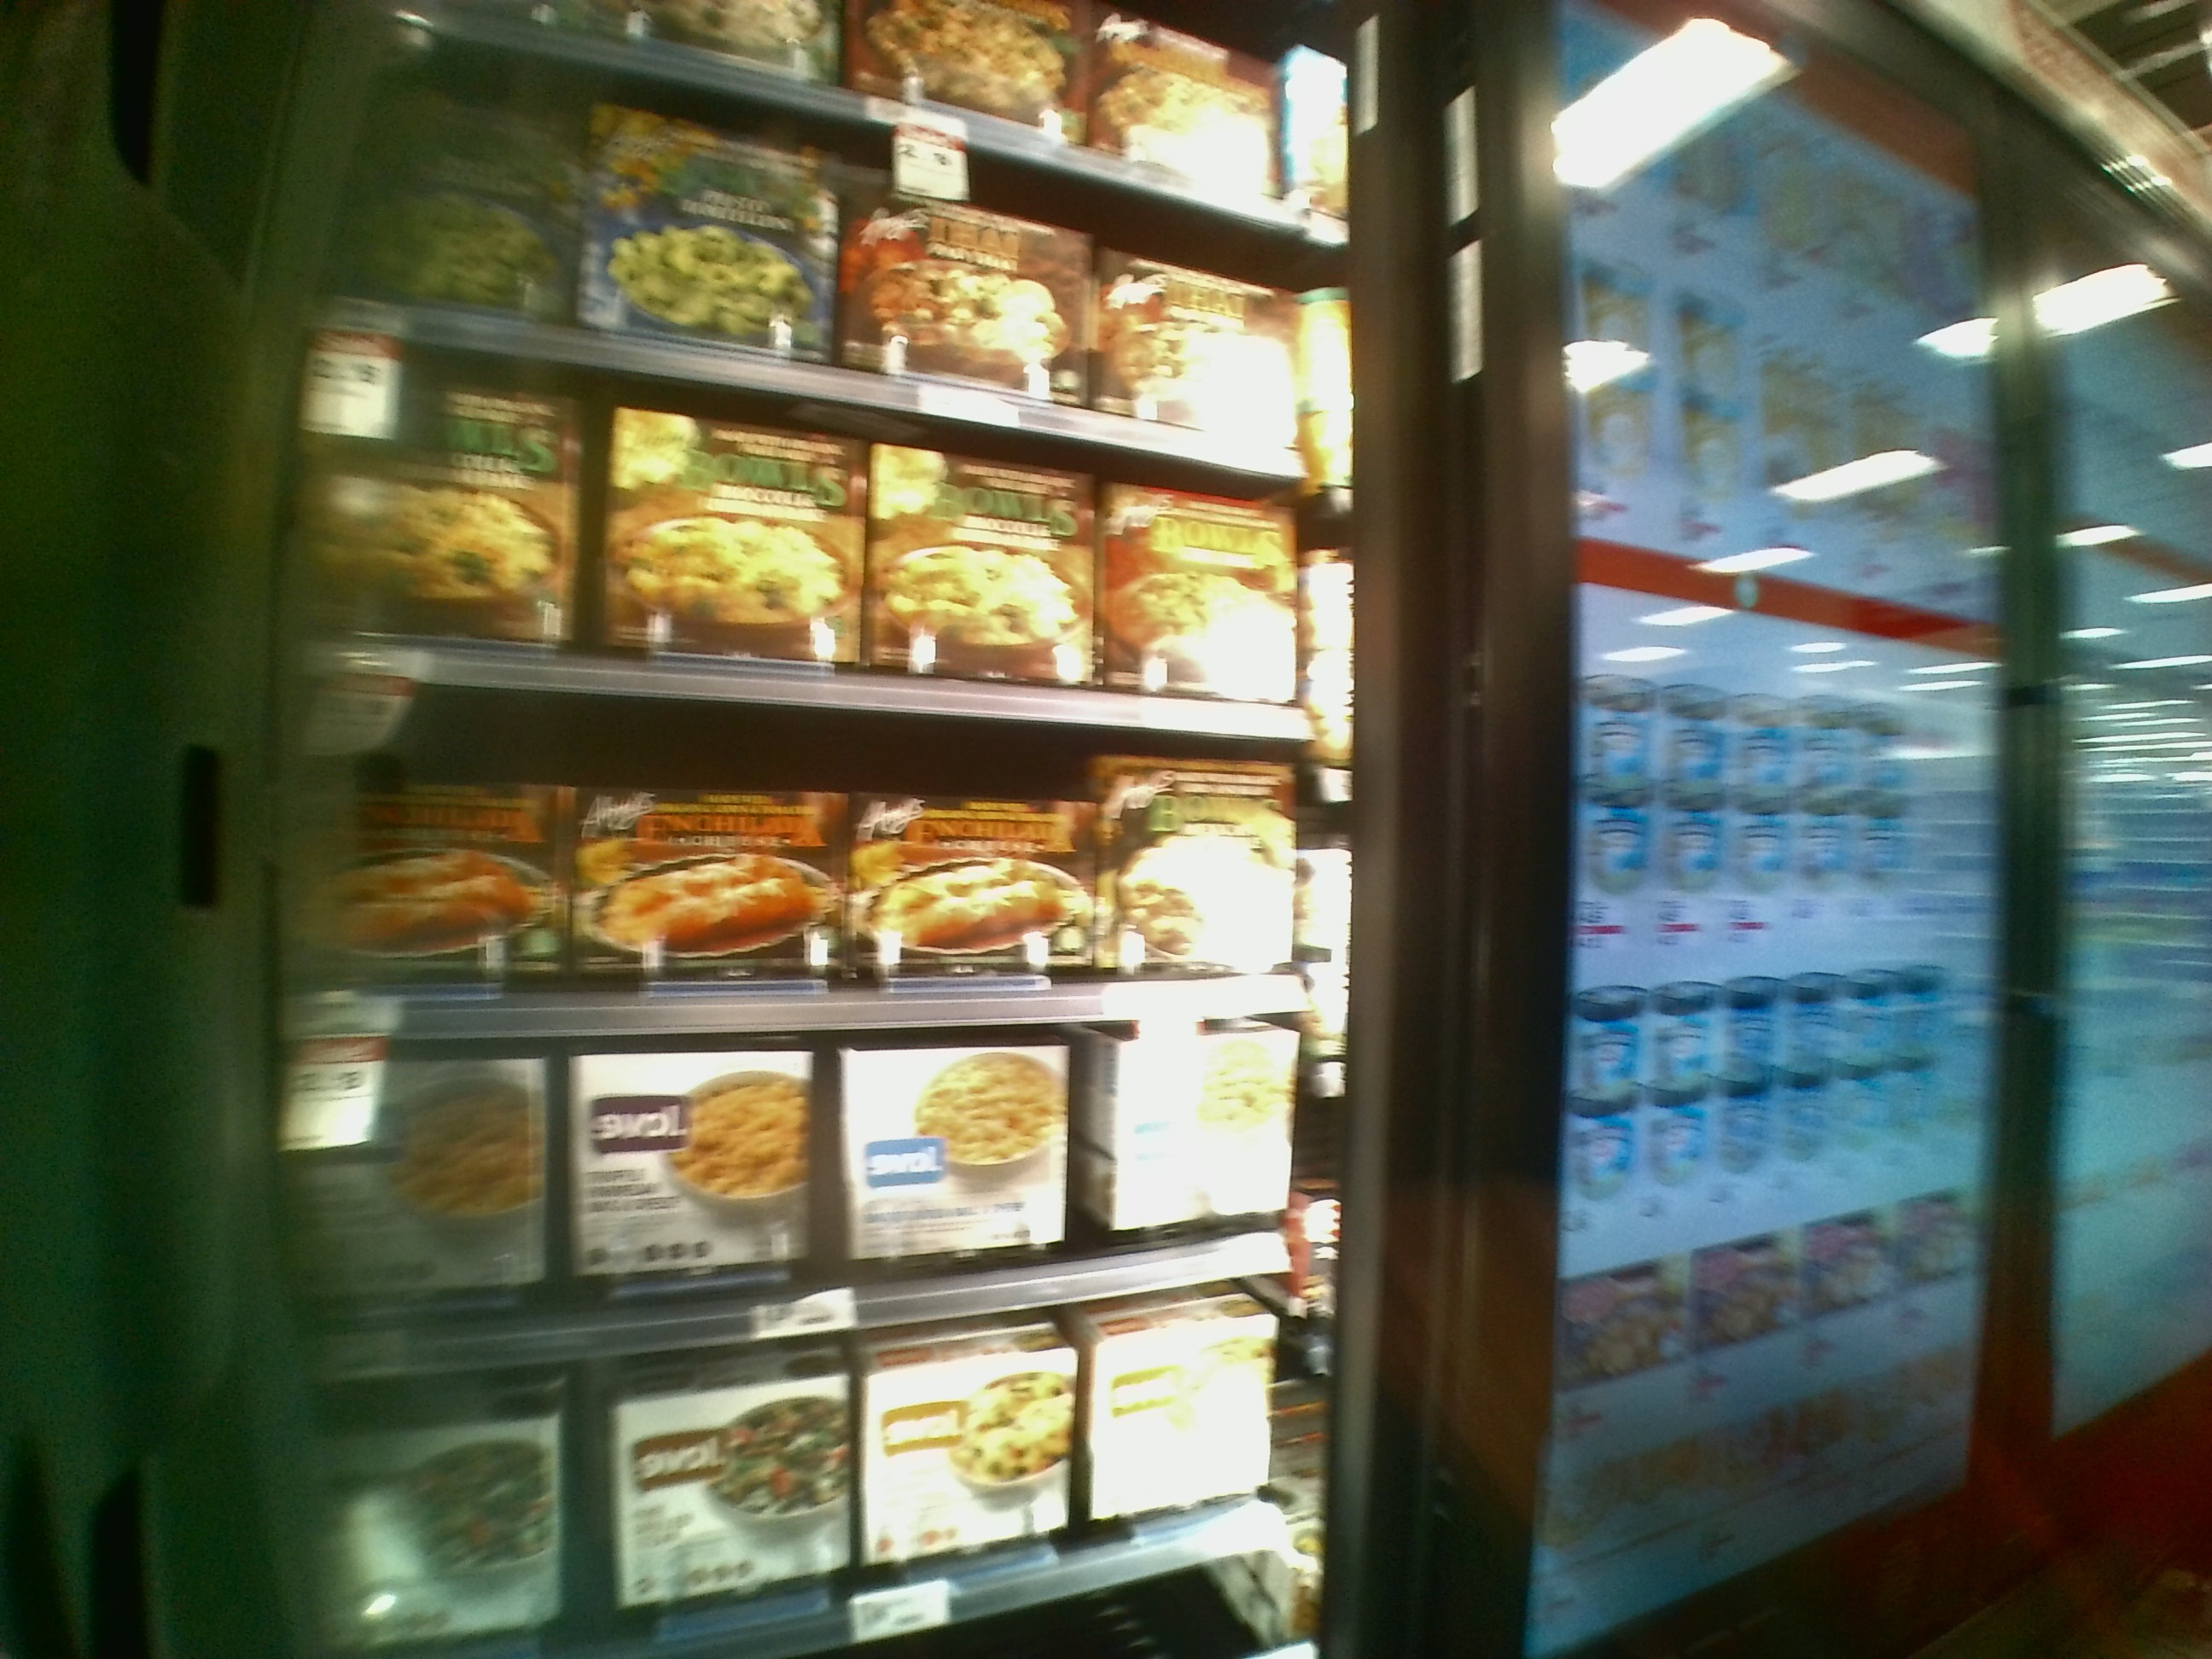shelf: (294, 396, 1343, 732), (296, 721, 1334, 1044), (296, 1053, 1355, 1344)
